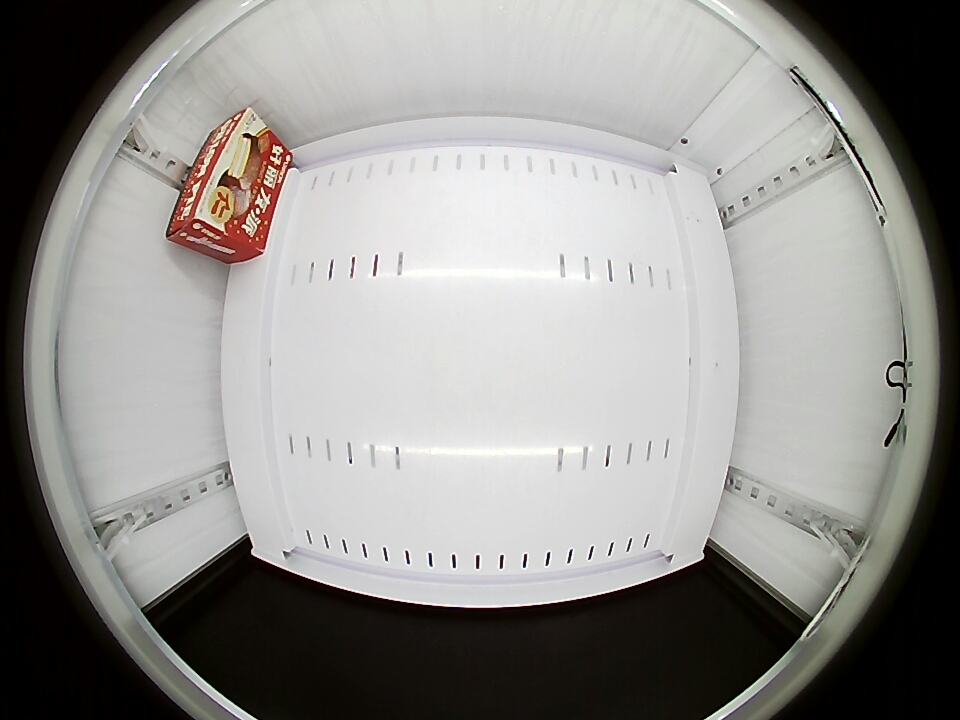haoliyou: (166, 107, 274, 253)
